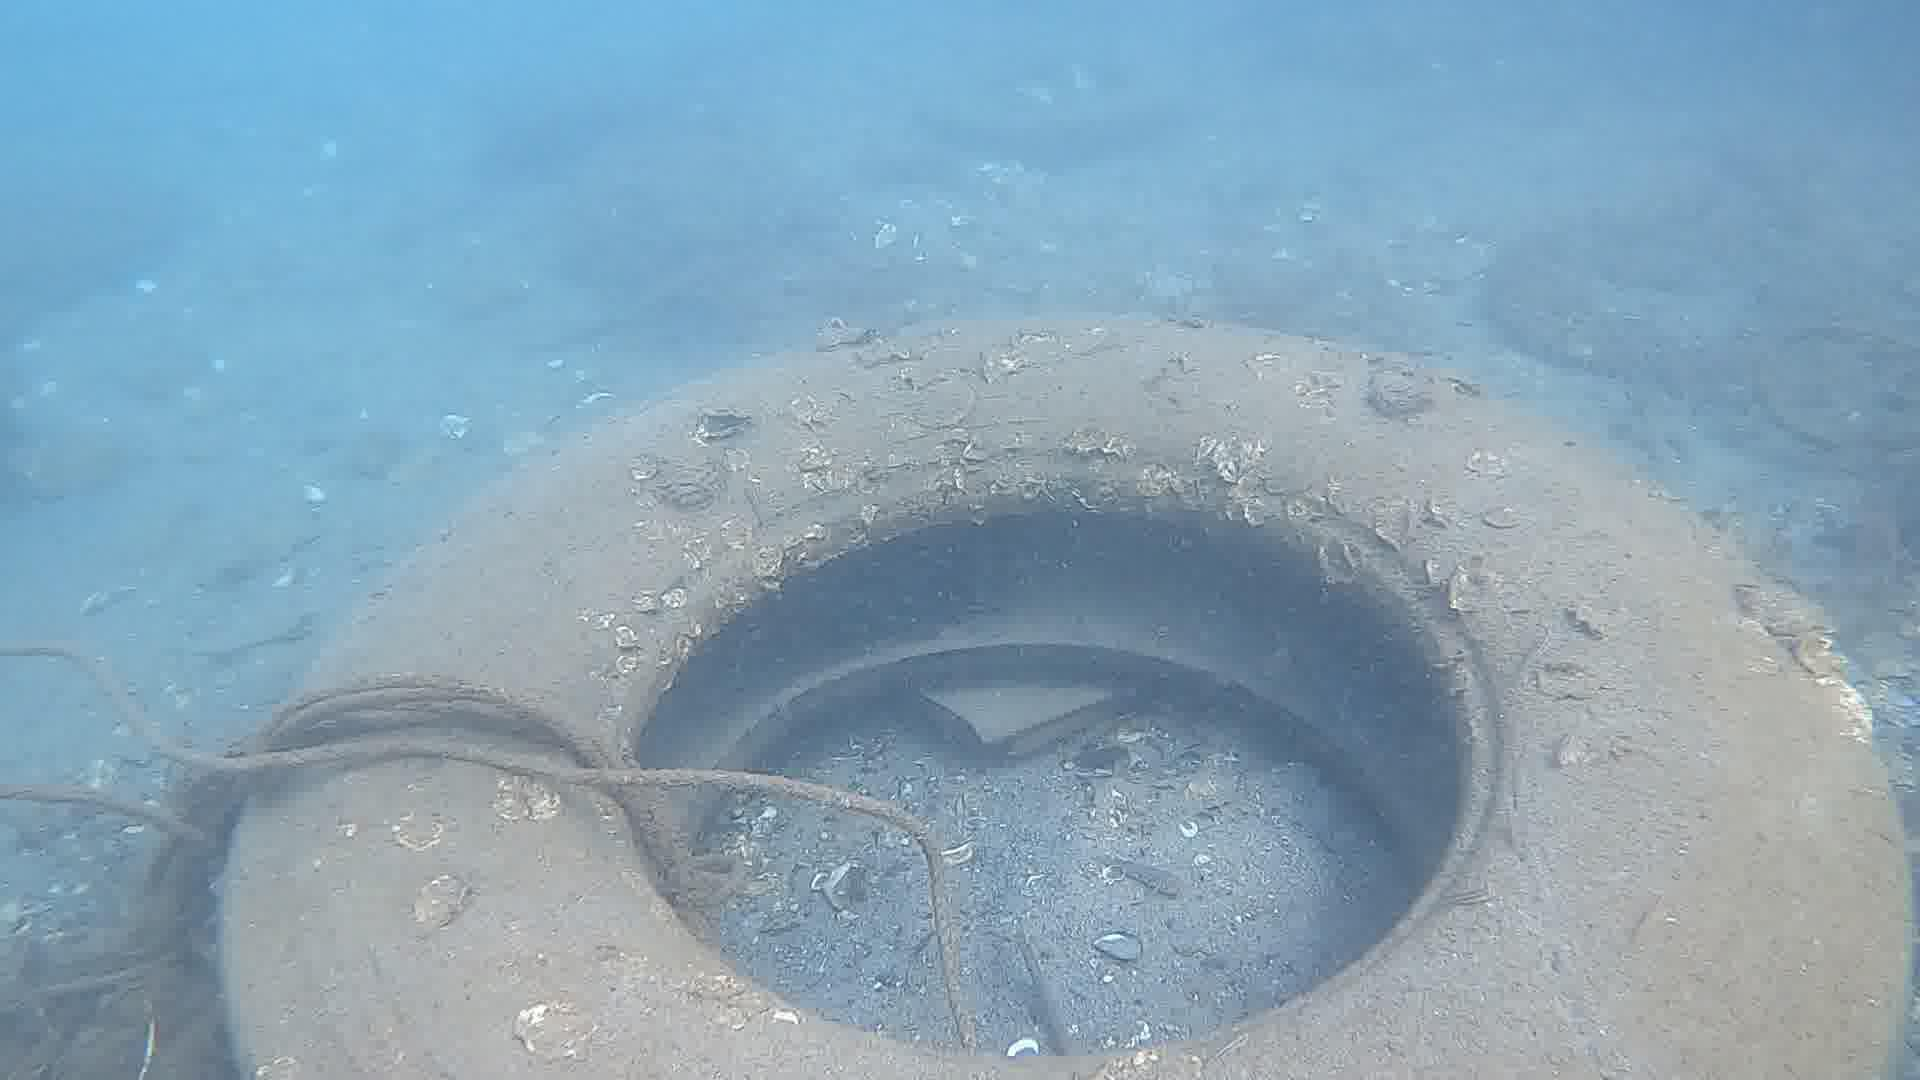bundle of ropes: (0, 640, 982, 1080)
tire: (216, 314, 1917, 1080)
